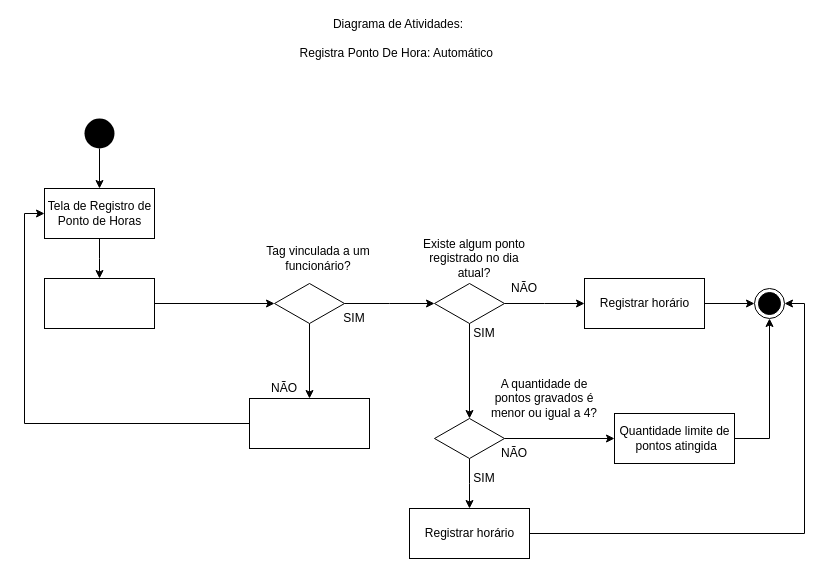
Some shapes in this 830 by 576 pixel diagram are drawn without their labels. The shapes that lost their labels are listed below. From the top down, each one's centre as x and y in pixels, then its label:
point 99,303: Aproxima cartão do leitor RFID
point 309,423: Tag não cadastrada.
